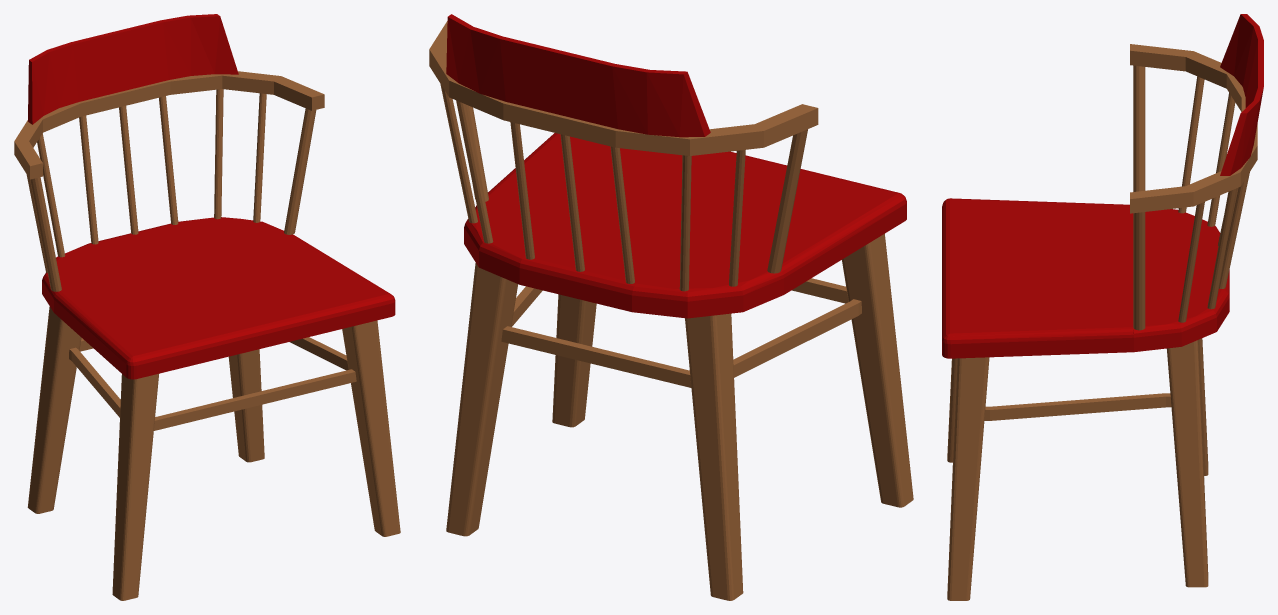
Rendered from chair-by-cmht-oculus-5vqM-1d9KGI.glb.
The picture shows the model from 3 angles, left to right: view 1: azimuth 30°, elevation 25°; view 2: azimuth 150°, elevation 25°; view 3: azimuth 270°, elevation 25°; orthographic projection. The views are drawn at different scales.
Visible parts, largest first — view 1: Node; view 2: Node; view 3: Node.
Boxes of the visible parts, x1,y1,x2,y2 form: Node: (14, 14, 400, 600); Node: (429, 14, 913, 600); Node: (942, 14, 1263, 600).
Size of the model in its own units: 23 by 32 by 20.13.
